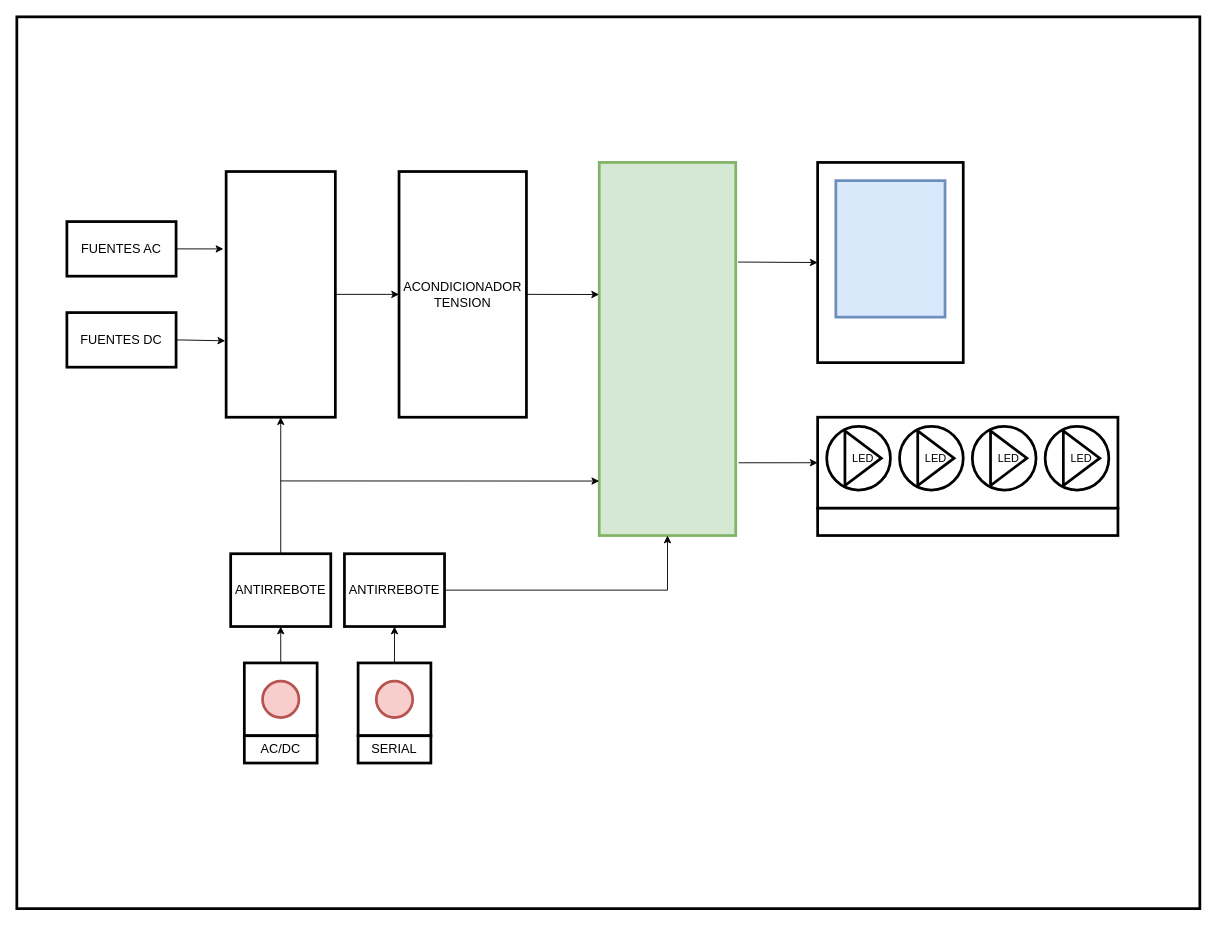
Image size: 1217x925. Some labels were removed from this diagram. Each missing label, with the centre of its shape:
"ARDUINO" goes at point 667,348.
"LCD" goes at point 890,248.
"LEDS INDICADORES" goes at point 967,521.
"MUX ANALOGICO" goes at point 280,294.
